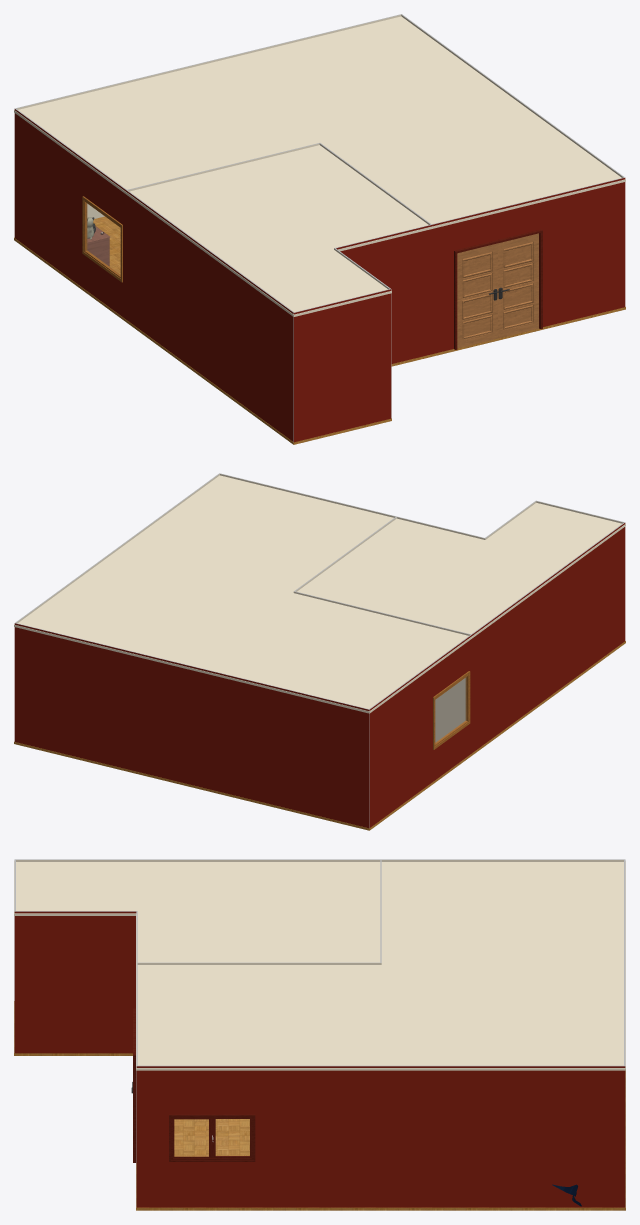
The model's file is ProcTHOR-Train-165.glb.
The picture shows the model from 3 angles, top to bottom: view 1: azimuth 30°, elevation 25°; view 2: azimuth 150°, elevation 25°; view 3: azimuth 270°, elevation 25°; orthographic projection. The views are drawn at different scales.
Parts seen in each view (by area): view 1: Ceiling#room|2|c, Ceiling#room|3|c, WallInside#wall|exterior|8.62|4.31|8.62|10.77, WallInside#wall|exterior|0.00|8.62|4.31|8.62, WallInside#wall|exterior|6.46|10.77|8.62|10.77, WallInside#wall|exterior|8.62|0.00|8.62|4.31, WallInside#wall|exterior|4.31|8.62|6.46|8.62, Doorway_Door_7a, Doorway_Door_7b, Floor#room|2|f, WallInside#wall|2|0.00|0.00|8.62|0.00, Doorway_Double_7 (+4 smaller); view 2: Ceiling#room|2|c, WallInside#wall|exterior|0.00|0.00|8.62|0.00, Ceiling#room|3|c, WallInside#wall|exterior|8.62|4.31|8.62|10.77, WallInside#wall|exterior|8.62|0.00|8.62|4.31, WallInside#wall|2|4.31|4.31|8.62|4.31, Floor#room|2|f, Window_Fixed_60x48, WallInside#wall|2|0.00|0.00|0.00|8.62; view 3: Ceiling#room|2|c, WallInside#wall|exterior|0.00|0.00|0.00|8.62, Ceiling#room|3|c, WallInside#wall|exterior|6.46|8.62|6.46|10.77, Floor#room|2|f, Window_Slider_60x36, WallInside#wall|3|8.62|4.31|8.62|10.77, WallInside#wall|2|8.62|0.00|8.62|4.31, Doorway_Double_7, WallInside#wall|2|4.31|4.31|4.31|8.62, WallInside#wall|2|0.00|0.00|0.00|8.62.
Part boxes in pixels (x1,y1,x2,y2): Ceiling#room|2|c: (14,16,625,229); Ceiling#room|3|c: (126,145,432,316); WallInside#wall|exterior|8.62|4.31|8.62|10.77: (126,190,293,441); WallInside#wall|exterior|0.00|8.62|4.31|8.62: (431,177,625,354); WallInside#wall|exterior|6.46|10.77|8.62|10.77: (294,289,391,442); WallInside#wall|exterior|8.62|0.00|8.62|4.31: (14,109,126,318); WallInside#wall|exterior|4.31|8.62|6.46|8.62: (335,225,432,363); Doorway_Door_7a: (457,243,497,348); Doorway_Door_7b: (498,233,538,338); Floor#room|2|f: (14,216,625,356); WallInside#wall|2|0.00|0.00|8.62|0.00: (15,14,401,218); Doorway_Double_7: (454,229,542,349); Ceiling#room|2|c: (14,475,472,713); WallInside#wall|exterior|0.00|0.00|8.62|0.00: (14,623,369,828); Ceiling#room|3|c: (297,503,625,638); WallInside#wall|exterior|8.62|4.31|8.62|10.77: (471,522,625,753); WallInside#wall|exterior|8.62|0.00|8.62|4.31: (369,635,471,828); WallInside#wall|2|4.31|4.31|8.62|4.31: (293,591,471,742); Floor#room|2|f: (14,741,472,830); Window_Fixed_60x48: (433,671,470,749); WallInside#wall|2|0.00|0.00|0.00|8.62: (16,473,219,623); Ceiling#room|2|c: (136,861,625,1070); WallInside#wall|exterior|0.00|0.00|0.00|8.62: (136,1066,625,1207); Ceiling#room|3|c: (14,861,381,964); WallInside#wall|exterior|6.46|8.62|6.46|10.77: (14,911,136,1053); Floor#room|2|f: (136,1071,625,1210); Window_Slider_60x36: (169,1114,255,1161); WallInside#wall|3|8.62|4.31|8.62|10.77: (16,859,380,861); WallInside#wall|2|8.62|0.00|8.62|4.31: (381,859,624,861); Doorway_Double_7: (133,1008,136,1162); WallInside#wall|2|4.31|4.31|4.31|8.62: (137,963,381,964); WallInside#wall|2|0.00|0.00|0.00|8.62: (137,1065,624,1065).
Size of what is drawn, in the model's own units: 8.75 by 2.82 by 10.81.
152 materials, 57 textured.
